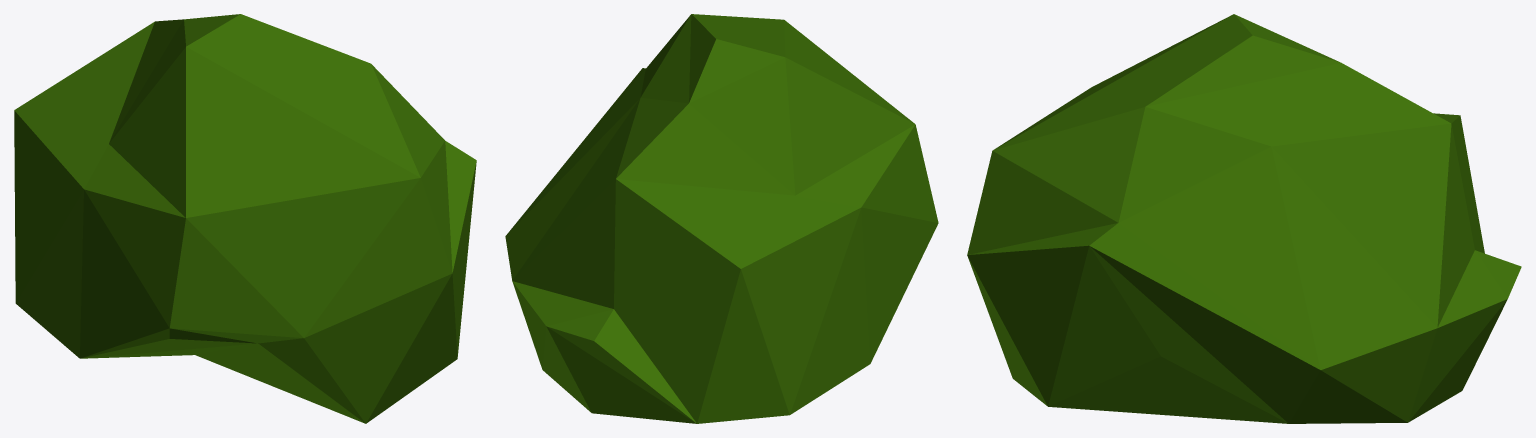
The model's file is bush_7.FBX.
3 renders of one model, left to right at view 1: azimuth 30°, elevation 25°; view 2: azimuth 150°, elevation 25°; view 3: azimuth 270°, elevation 25°, orthographic. The views are drawn at different scales.
Parts seen in each view (by area): view 1: bush_7; view 2: bush_7; view 3: bush_7.
Boxes of the visible parts, box(x1,y1,x2,y2) form: bush_7: box(14, 14, 476, 423); bush_7: box(505, 14, 938, 423); bush_7: box(967, 14, 1521, 423).
Size of the model in its own units: 434 by 399 by 573.
